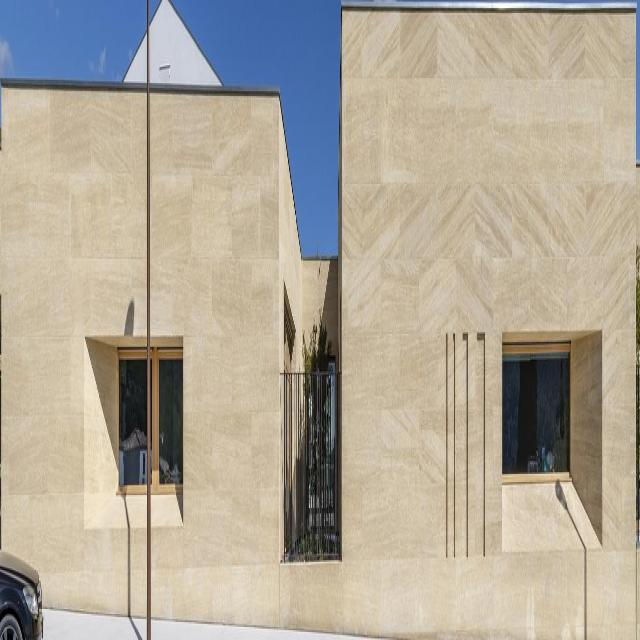railing: (280, 369, 341, 559)
window: (117, 342, 183, 494), (502, 341, 570, 471)
